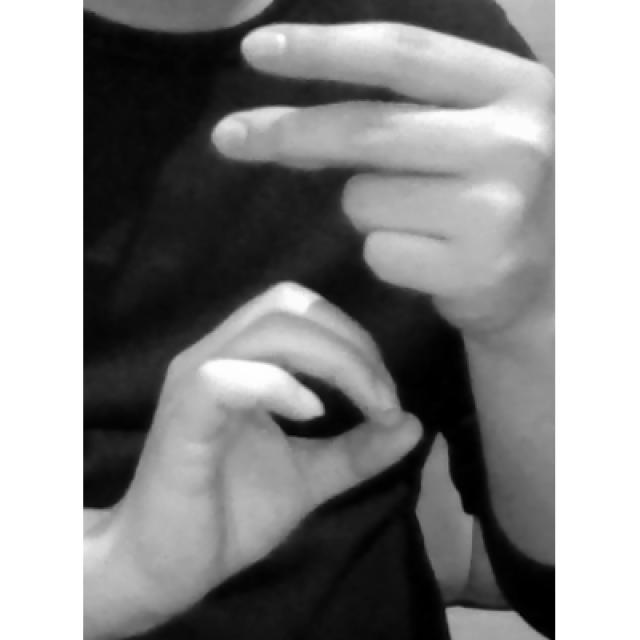O--: (113, 17, 554, 636)
